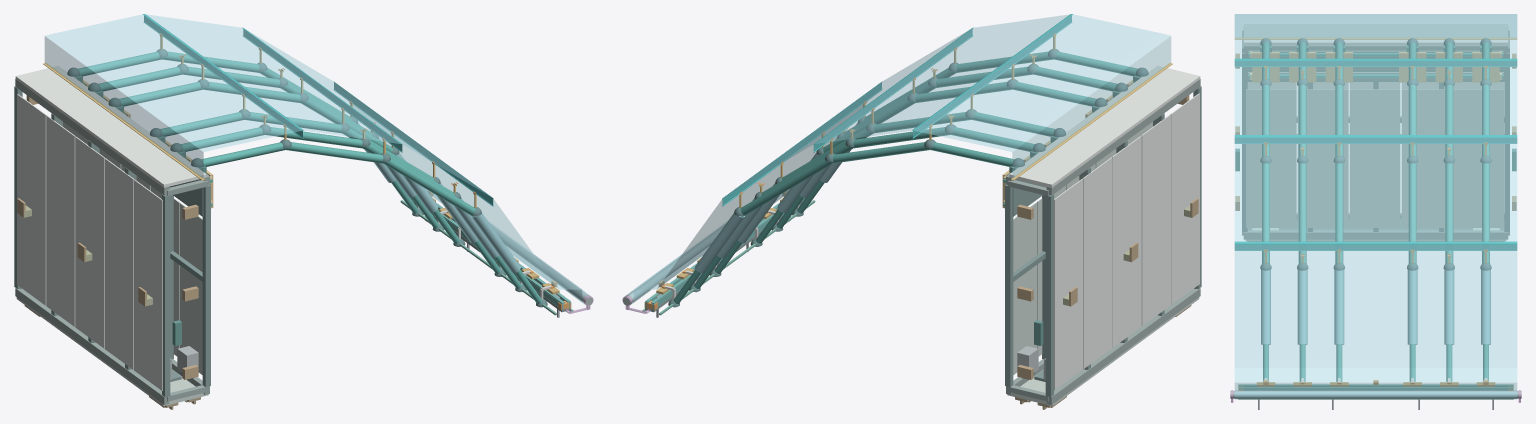
File: 03_gates_open.glb
3 renders of one model, left to right at view 1: azimuth 30°, elevation 25°; view 2: azimuth 150°, elevation 25°; view 3: azimuth 270°, elevation 25°, orthographic. The views are drawn at different scales.
Parts seen in each view (by area): view 1: F04_CONTINUOUS_SINGLE_SHEET, M1_W01_P_wall_top_coping, M1_W01_P_outer_back_2, M1_W01_P_outer_back_4, M1_W01_P_outer_back_5, M1_W01_P_outer_back_1, M1_W01_P_outer_back_3, M1_W01_P_front_lower_1, M1_W01_F_long_0_0, M1_W01_F_post_1_0, M1_W01_F_post_0_0, F04_web3 (+24 smaller); view 2: F04_CONTINUOUS_SINGLE_SHEET, M1_W01_P_wall_top_coping, M1_W01_P_outer_back_2, M1_W01_P_outer_back_4, M1_W01_P_outer_back_5, M1_W01_P_outer_back_3, M1_W01_P_outer_back_1, M1_W01_P_front_lower_5, M1_W01_F_long_0_0, M1_W01_F_post_0_4, M1_W01_F_post_1_4, M1_W01_F_long_0_1 (+23 smaller); view 3: F04_CONTINUOUS_SINGLE_SHEET, M1_W01_P_front_lower_3, M1_W01_P_front_lower_1, M1_W01_P_front_lower_5, M1_W01_P_wall_top_coping, M1_W01_P_front_lower_4, M1_W01_P_front_lower_2, F04_front_roll_core, M1_W01_F_long_1_0, F04_web1, F04_web2, F04_web3 (+45 smaller).
Boxes of the visible parts, left/top/right/bottom form: F04_CONTINUOUS_SINGLE_SHEET: left=45, top=14, right=589, bottom=303; M1_W01_P_wall_top_coping: left=15, top=66, right=206, bottom=187; M1_W01_P_outer_back_2: left=104, top=158, right=133, bottom=369; M1_W01_P_outer_back_4: left=46, top=115, right=75, bottom=326; M1_W01_P_outer_back_5: left=17, top=94, right=46, bottom=305; M1_W01_P_outer_back_1: left=133, top=179, right=162, bottom=390; M1_W01_P_outer_back_3: left=75, top=136, right=104, bottom=348; M1_W01_P_front_lower_1: left=179, top=203, right=202, bottom=374; M1_W01_F_long_0_0: left=15, top=288, right=169, bottom=404; M1_W01_F_post_1_0: left=202, top=184, right=210, bottom=387; M1_W01_F_post_0_0: left=162, top=194, right=170, bottom=396; F04_web3: left=334, top=82, right=493, bottom=205; F04_CONTINUOUS_SINGLE_SHEET: left=626, top=14, right=1170, bottom=303; M1_W01_P_wall_top_coping: left=1009, top=66, right=1200, bottom=187; M1_W01_P_outer_back_2: left=1141, top=114, right=1170, bottom=326; M1_W01_P_outer_back_4: left=1083, top=157, right=1112, bottom=368; M1_W01_P_outer_back_5: left=1054, top=178, right=1083, bottom=390; M1_W01_P_outer_back_3: left=1112, top=136, right=1141, bottom=347; M1_W01_P_outer_back_1: left=1170, top=93, right=1199, bottom=304; M1_W01_P_front_lower_5: left=1013, top=202, right=1037, bottom=374; M1_W01_F_long_0_0: left=1046, top=288, right=1200, bottom=404; M1_W01_F_post_0_4: left=1045, top=194, right=1053, bottom=396; M1_W01_F_post_1_4: left=1005, top=184, right=1013, bottom=387; M1_W01_F_long_0_1: left=1046, top=79, right=1200, bottom=195; F04_CONTINUOUS_SINGLE_SHEET: left=1234, top=14, right=1517, bottom=399; M1_W01_P_front_lower_3: left=1349, top=89, right=1400, bottom=227; M1_W01_P_front_lower_1: left=1246, top=89, right=1296, bottom=227; M1_W01_P_front_lower_5: left=1453, top=89, right=1503, bottom=227; M1_W01_P_wall_top_coping: left=1244, top=24, right=1507, bottom=45; M1_W01_P_front_lower_4: left=1401, top=89, right=1445, bottom=227; M1_W01_P_front_lower_2: left=1297, top=89, right=1348, bottom=227; F04_front_roll_core: left=1230, top=391, right=1521, bottom=398; M1_W01_F_long_1_0: left=1243, top=230, right=1508, bottom=239; F04_web1: left=1234, top=60, right=1517, bottom=66; F04_web2: left=1234, top=137, right=1517, bottom=142; F04_web3: left=1234, top=245, right=1517, bottom=249.
Size of the model in its own units: 5.63 by 3.31 by 3.71.
